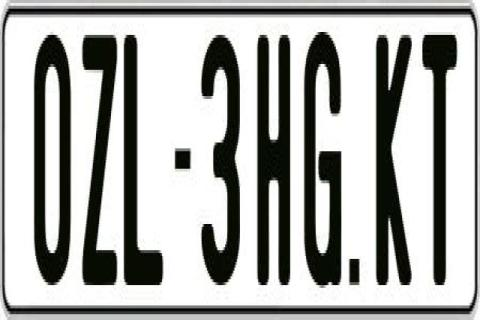0: (200, 32, 244, 300), (32, 32, 74, 300)
G: (304, 23, 341, 285)
H: (253, 35, 290, 294)
K: (376, 32, 417, 285)
L: (124, 26, 167, 294)
T: (421, 27, 459, 280)
Z: (80, 35, 118, 285)
